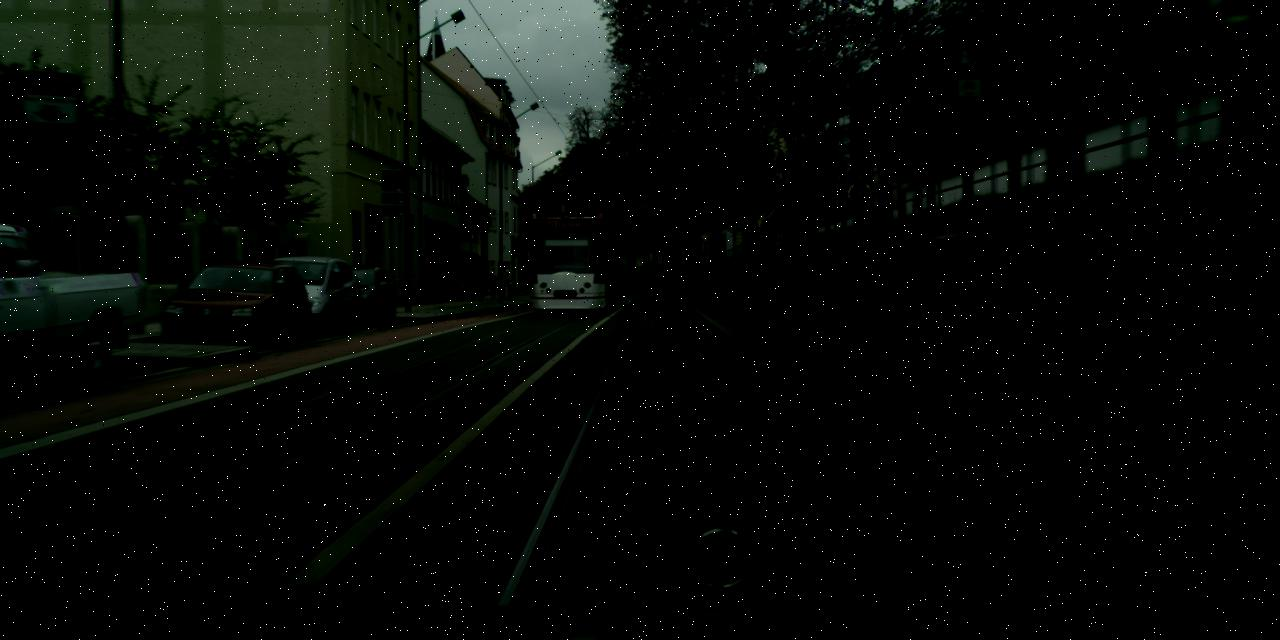ped: (1192, 0, 1250, 141), (849, 174, 869, 227), (473, 264, 488, 300), (463, 268, 476, 300), (500, 268, 512, 298), (486, 270, 496, 298), (523, 269, 533, 294)
